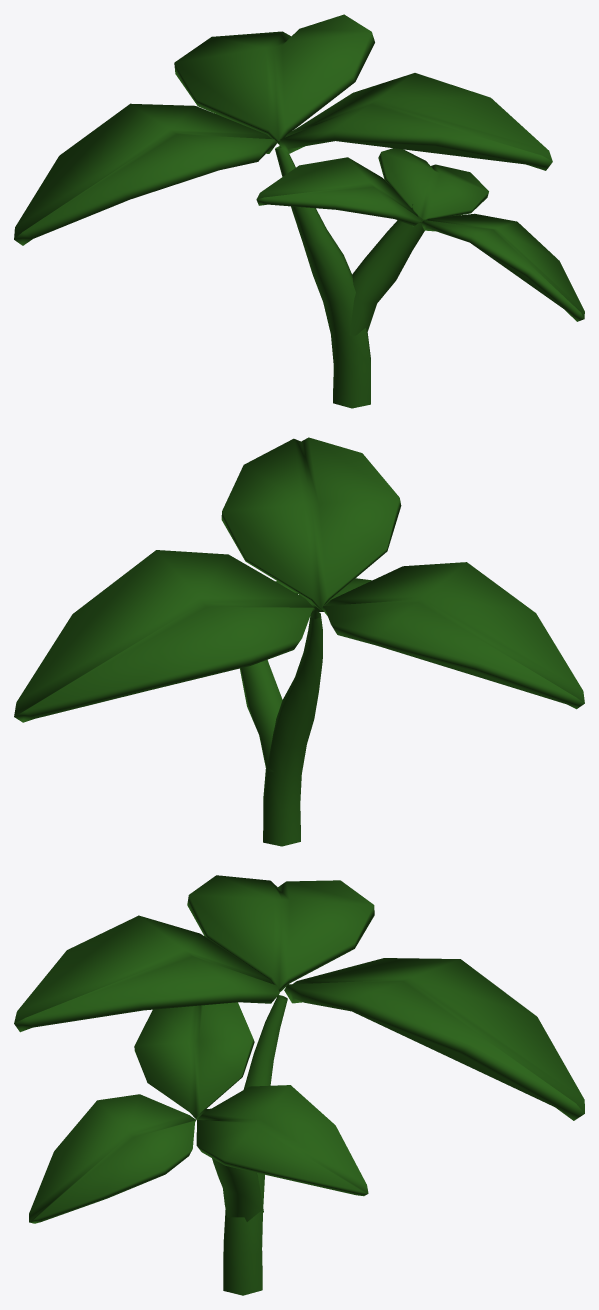
The model's file is fbx_tiny_potato.fbx.
3 views of the same model, one above another, from view 1: azimuth 30°, elevation 25°; view 2: azimuth 150°, elevation 25°; view 3: azimuth 270°, elevation 25° (orthographic). The views are drawn at different scales.
Parts seen in each view (by area): view 1: tinypoatoeplant; view 2: tinypoatoeplant; view 3: tinypoatoeplant.
Part boxes in pixels (box(x1,y1,x2,y2)): tinypoatoeplant: box(14, 14, 584, 408); tinypoatoeplant: box(14, 437, 584, 846); tinypoatoeplant: box(14, 875, 584, 1295).
Bounding box in the file's own units: 24.74 × 16.53 × 25.32.
